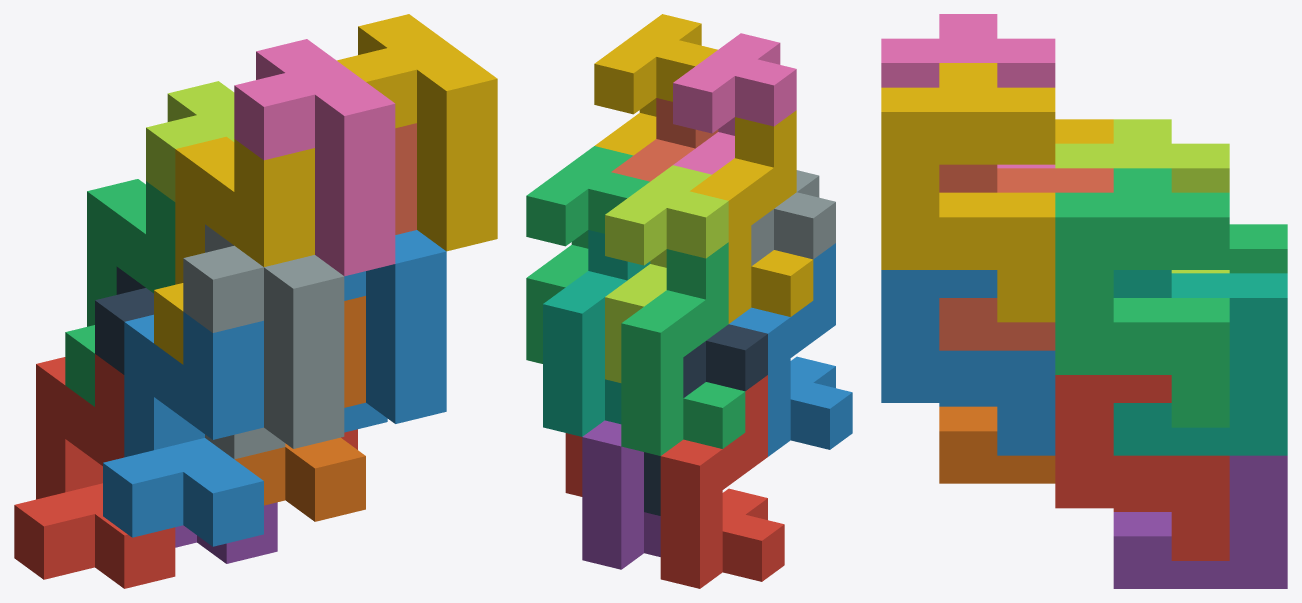
File: tiling.obj
The picture shows the model from 3 angles, left to right: view 1: azimuth 30°, elevation 25°; view 2: azimuth 150°, elevation 25°; view 3: azimuth 270°, elevation 25°; orthographic projection. The views are drawn at different scales.
Visible parts, largest first — view 1: copy_1_domain_2, copy_2_domain_4, copy_2_domain_2, copy_2_domain_8, copy_1_domain_1, copy_1_domain_4, copy_2_domain_6, copy_1_domain_3, copy_1_domain_6, copy_2_domain_3, copy_2_domain_1, copy_1_domain_8 (+1 smaller); view 2: copy_1_domain_3, copy_1_domain_1, copy_1_domain_4, copy_2_domain_3, copy_1_domain_7, copy_1_domain_2, copy_2_domain_4, copy_2_domain_7, copy_2_domain_8, copy_1_domain_5, copy_2_domain_1, copy_2_domain_2 (+2 smaller); view 3: copy_2_domain_8, copy_2_domain_7, copy_2_domain_5, copy_2_domain_6, copy_1_domain_7, copy_1_domain_5, copy_1_domain_8, copy_2_domain_4, copy_2_domain_3, copy_1_domain_6, copy_1_domain_3, copy_1_domain_4.
Part boxes in pixels (bbox=[...]): copy_1_domain_2: bbox=[103, 312, 263, 546]; copy_2_domain_4: bbox=[234, 39, 395, 276]; copy_2_domain_2: bbox=[183, 224, 344, 459]; copy_2_domain_8: bbox=[337, 14, 497, 251]; copy_1_domain_1: bbox=[14, 354, 175, 588]; copy_1_domain_4: bbox=[154, 136, 314, 364]; copy_2_domain_6: bbox=[344, 230, 446, 432]; copy_1_domain_3: bbox=[65, 179, 175, 406]; copy_1_domain_6: bbox=[235, 296, 365, 521]; copy_2_domain_3: bbox=[146, 81, 234, 201]; copy_2_domain_1: bbox=[95, 266, 153, 374]; copy_1_domain_8: bbox=[395, 123, 416, 234]; copy_1_domain_3: bbox=[621, 242, 745, 455]; copy_1_domain_1: bbox=[660, 375, 784, 588]; copy_1_domain_4: bbox=[690, 110, 813, 323]; copy_2_domain_3: bbox=[605, 165, 728, 382]; copy_1_domain_7: bbox=[543, 230, 650, 436]; copy_1_domain_2: bbox=[729, 243, 852, 456]; copy_2_domain_4: bbox=[673, 33, 796, 174]; copy_2_domain_7: bbox=[526, 146, 649, 363]; copy_2_domain_8: bbox=[594, 14, 717, 155]; copy_1_domain_5: bbox=[582, 420, 660, 569]; copy_2_domain_1: bbox=[644, 324, 767, 515]; copy_2_domain_2: bbox=[751, 170, 835, 266]; copy_2_domain_8: bbox=[881, 63, 1055, 322]; copy_2_domain_7: bbox=[1055, 168, 1229, 427]; copy_2_domain_5: bbox=[1055, 375, 1229, 560]; copy_2_domain_6: bbox=[881, 270, 1055, 455]; copy_1_domain_7: bbox=[1113, 270, 1287, 455]; copy_1_domain_5: bbox=[1113, 455, 1287, 588]; copy_1_domain_8: bbox=[939, 164, 1113, 350]; copy_2_domain_4: bbox=[881, 14, 1055, 168]; copy_2_domain_3: bbox=[1055, 119, 1229, 273]; copy_1_domain_6: bbox=[939, 406, 1055, 483]; copy_1_domain_3: bbox=[1229, 224, 1287, 273]; copy_1_domain_4: bbox=[1055, 119, 1113, 143].
Bounding box in the file's own units: 6 × 10 × 7.
